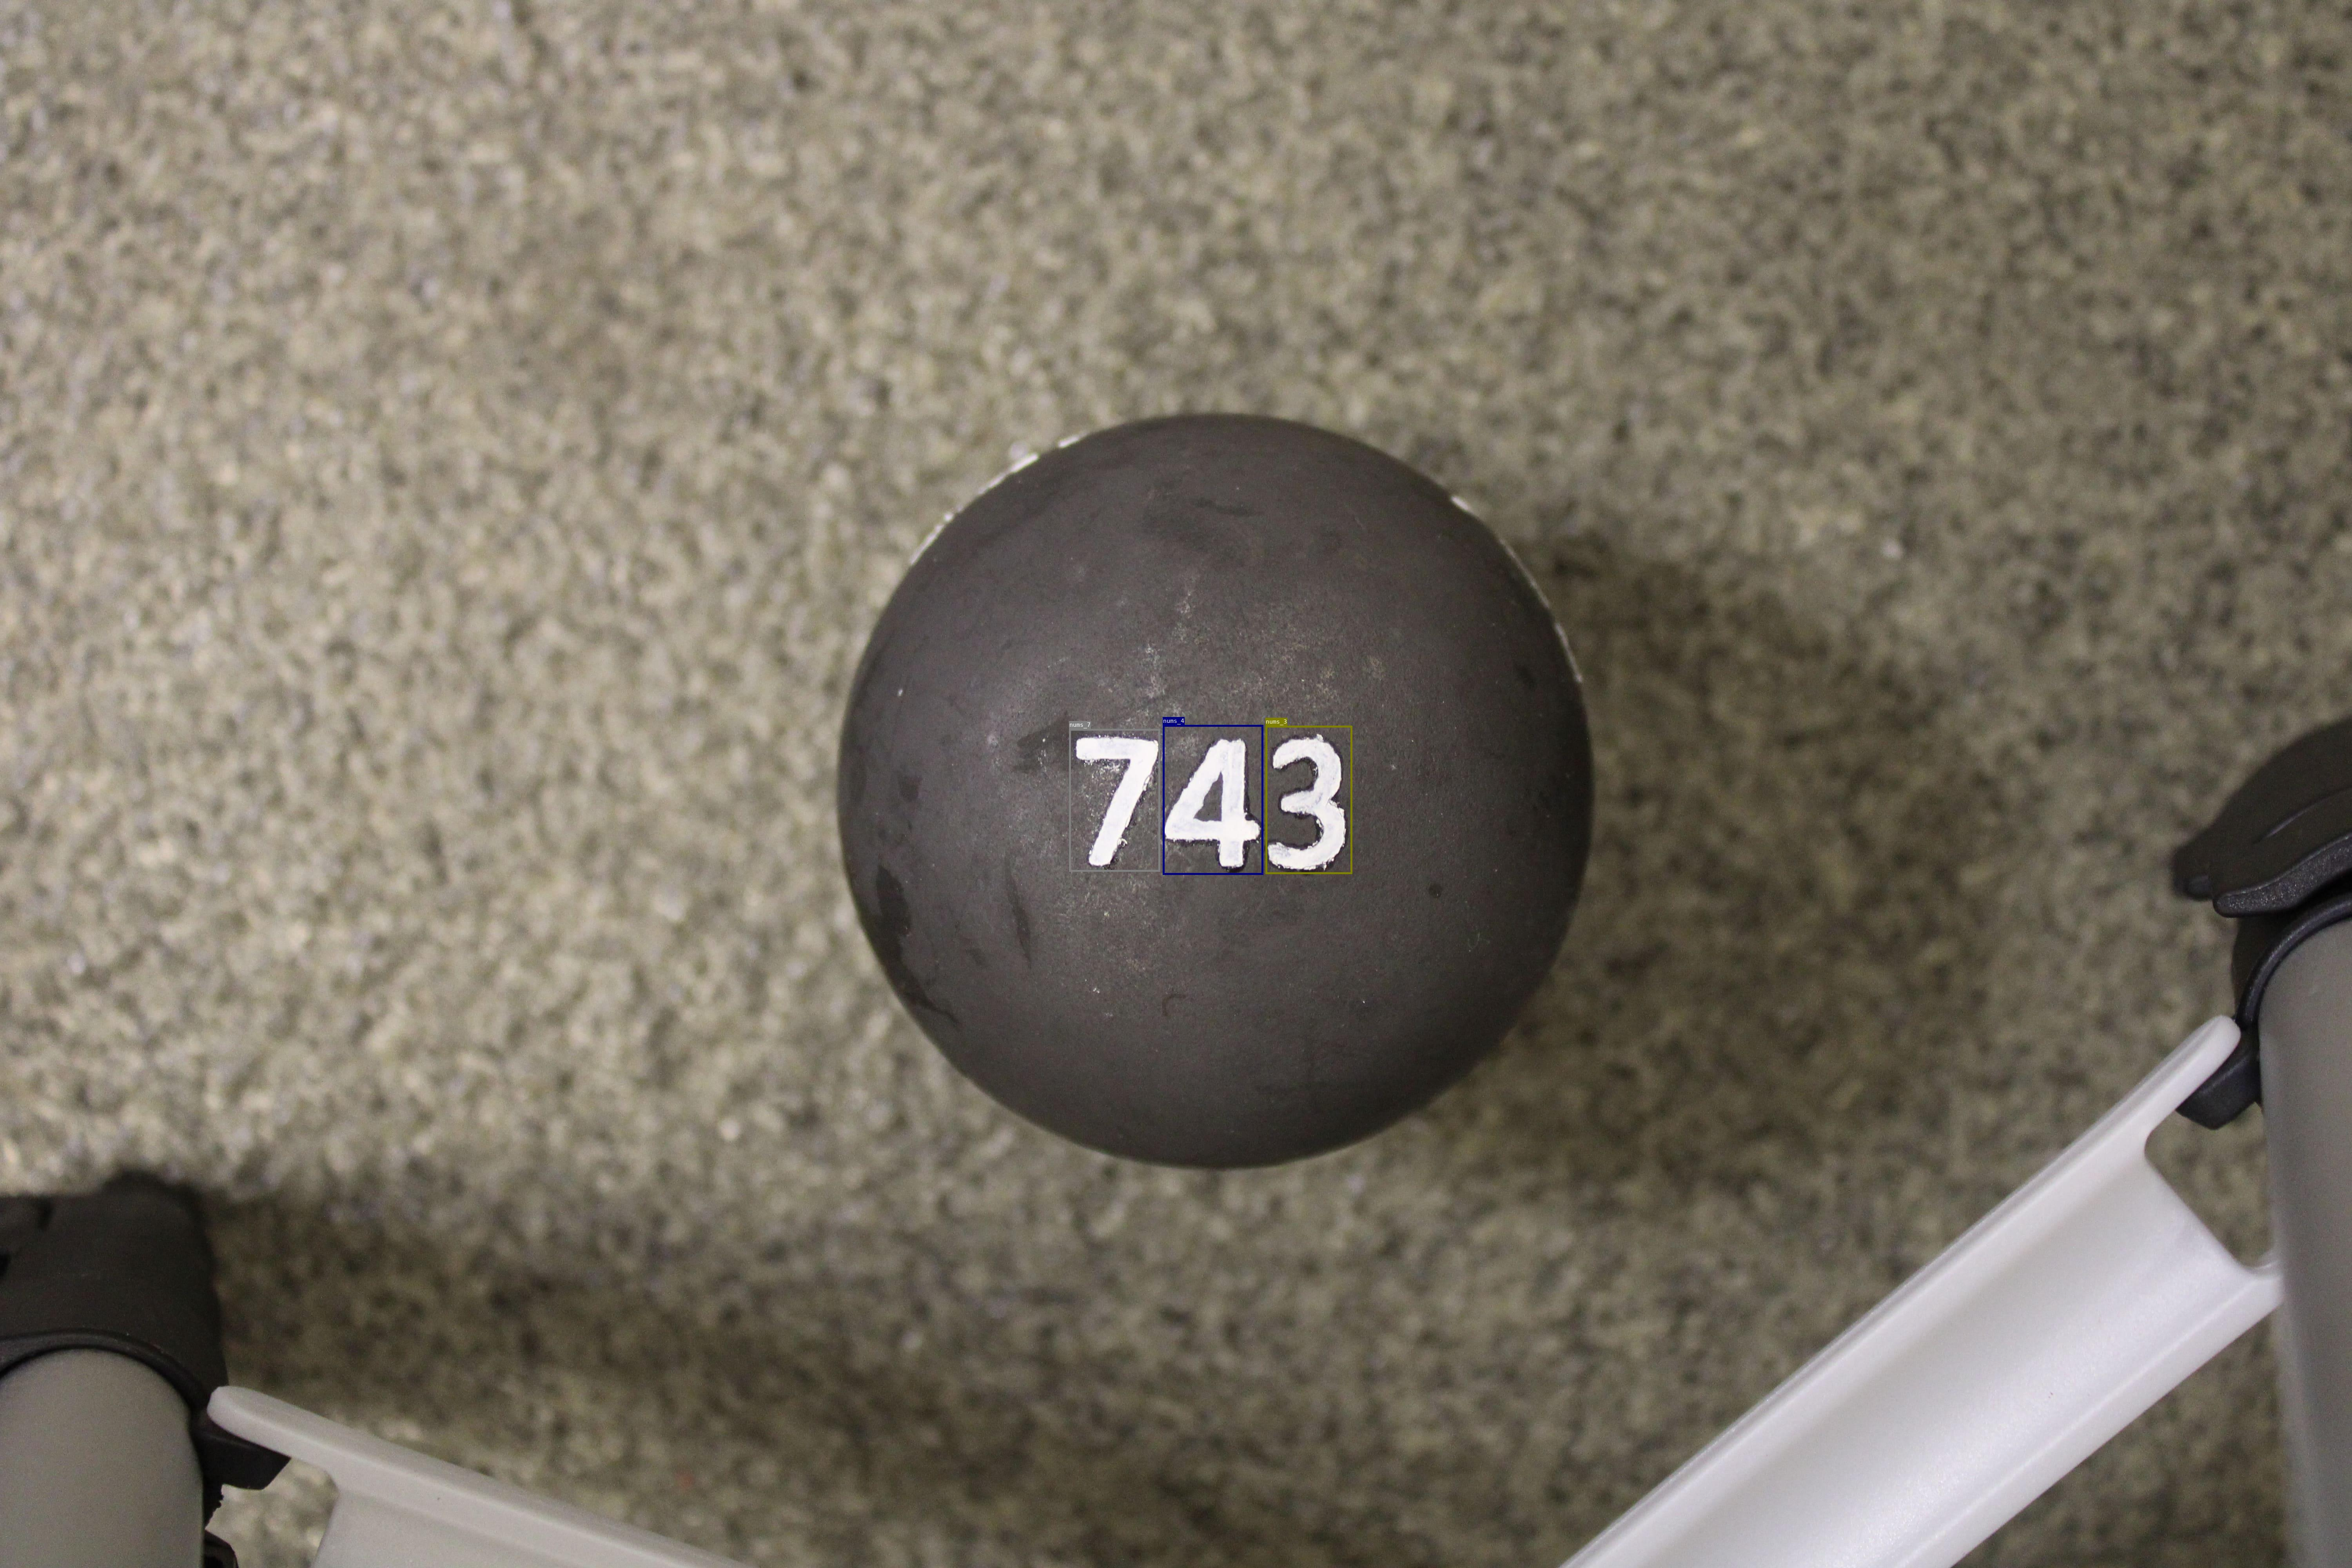nums_3: (1265, 726, 1353, 873)
nums_4: (1162, 724, 1263, 875)
nums_7: (1069, 728, 1160, 872)
